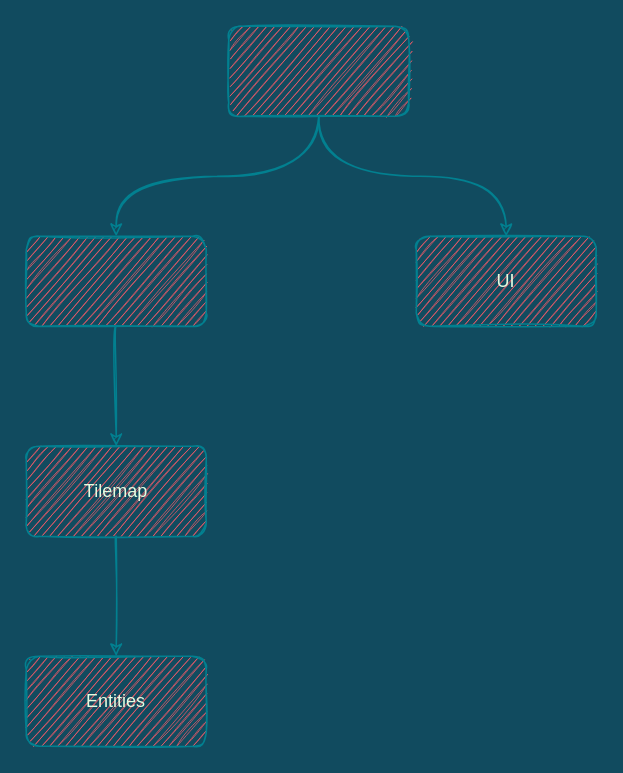
Some shapes in this 623 by 773 pixel diagram are drawn without their labels. Each missing label, with the box of its shape:
GameState: (227, 25, 409, 116)
World: (25, 235, 206, 326)
